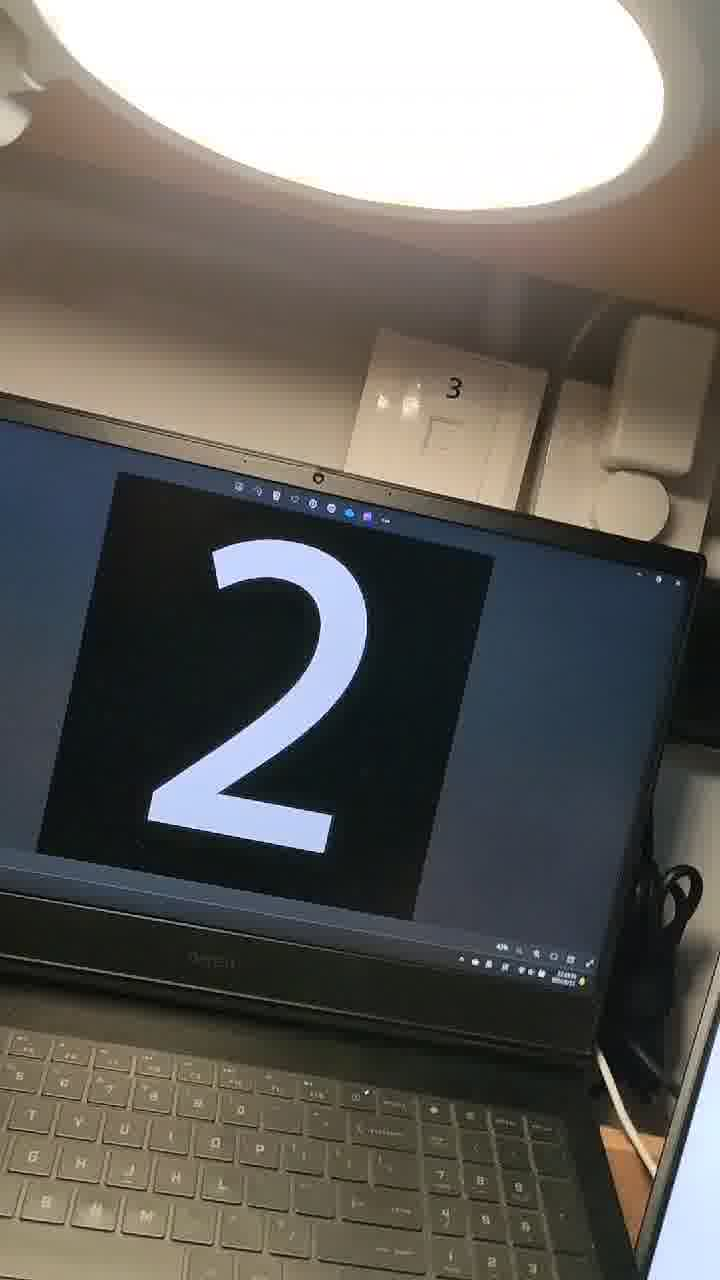two: (113, 497, 412, 900)
